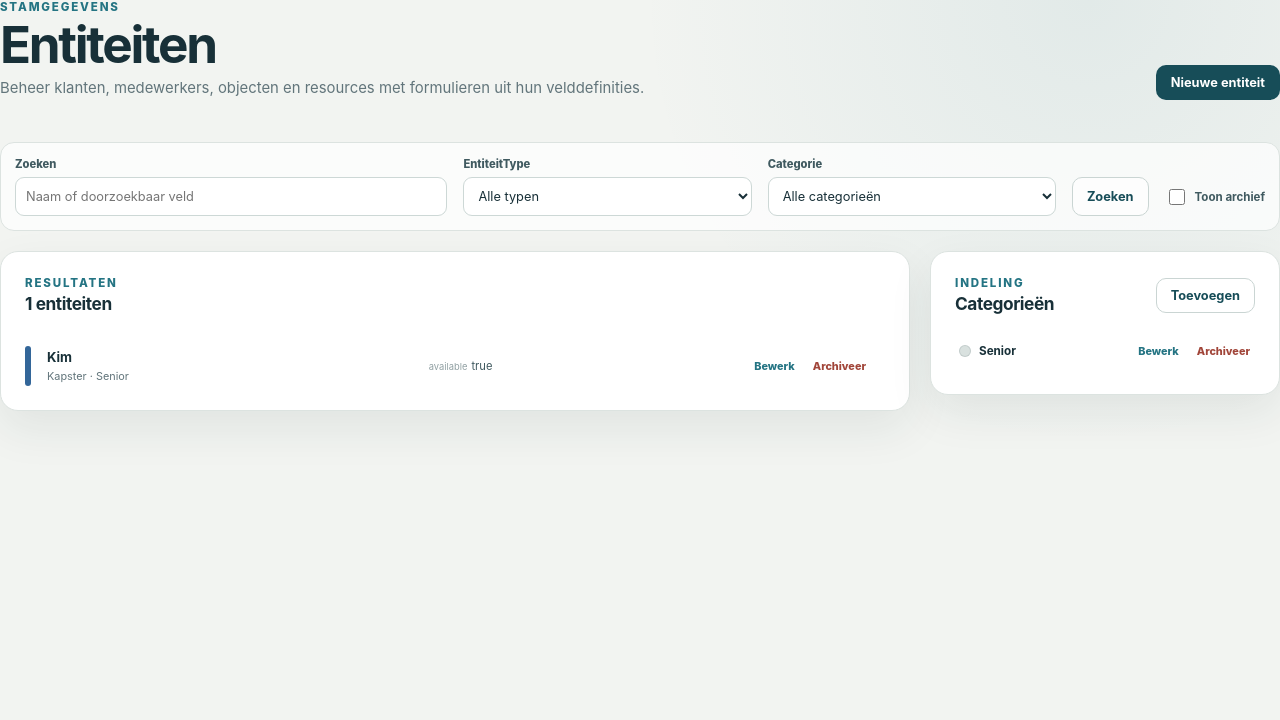
EntitiesPage › opent bewerken en archiveert alleen na bevestiging
The width and height of the screenshot is (1280, 720).
expect the text "Kim" is shown: met, box [47, 349, 72, 365]
Click the button with aria-label "Kim bewerken" at (774,366), box [749, 354, 800, 378]
(page scrolled)
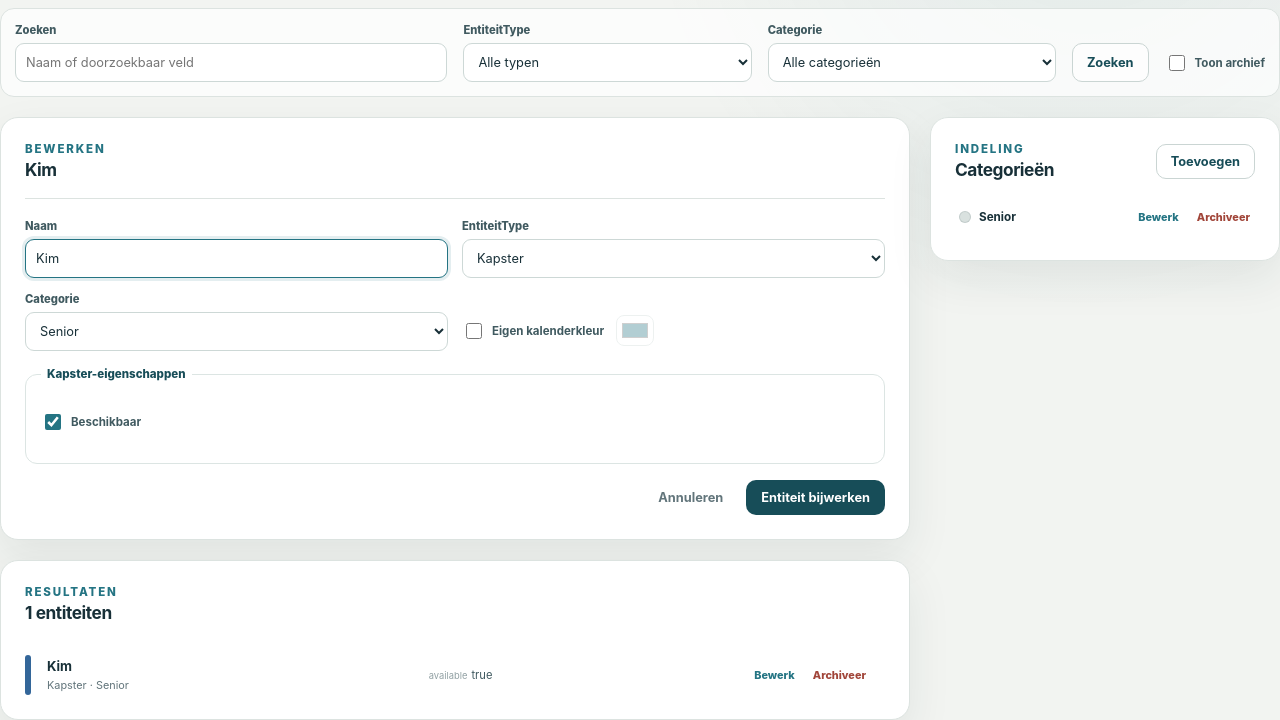
expect the button "Entiteit bijwerken" is shown: met, box [746, 480, 885, 515]
Click the button with aria-label "Kim archiveren" at (839,675), box [808, 663, 871, 687]
(page scrolled)
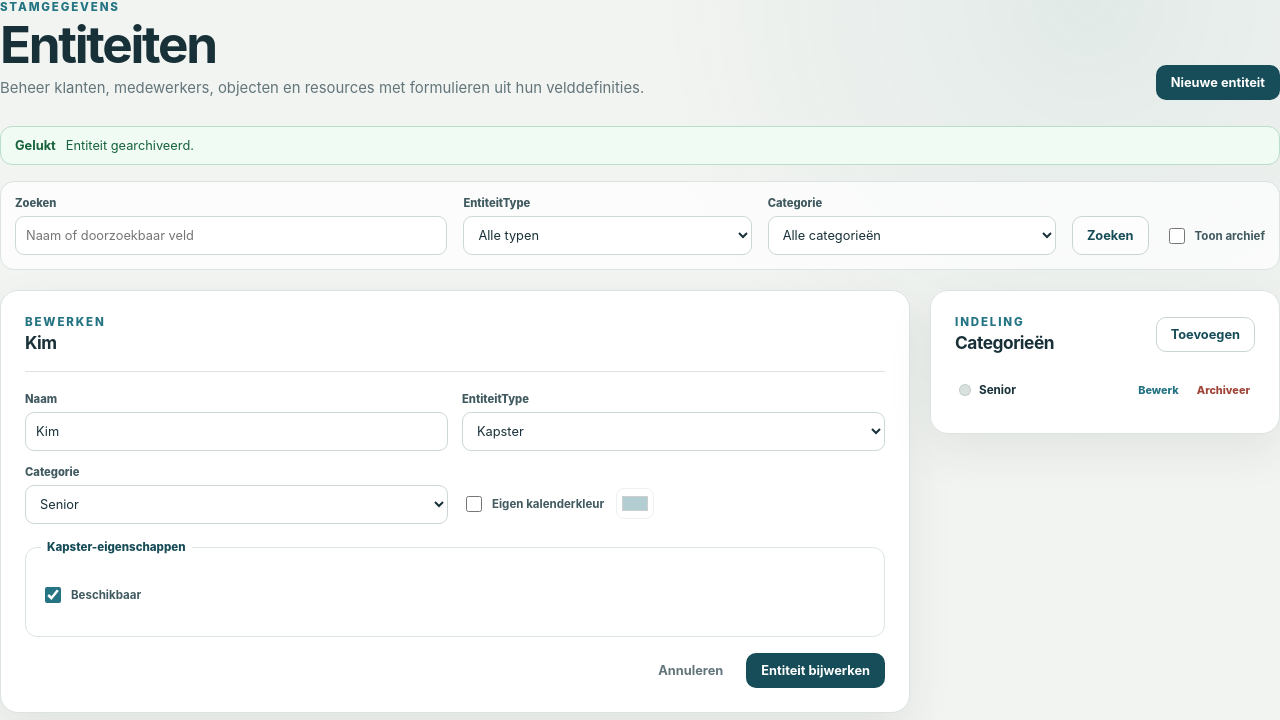
expect the text "Entiteit gearchiveerd." is shown: met, box [66, 138, 194, 153]
